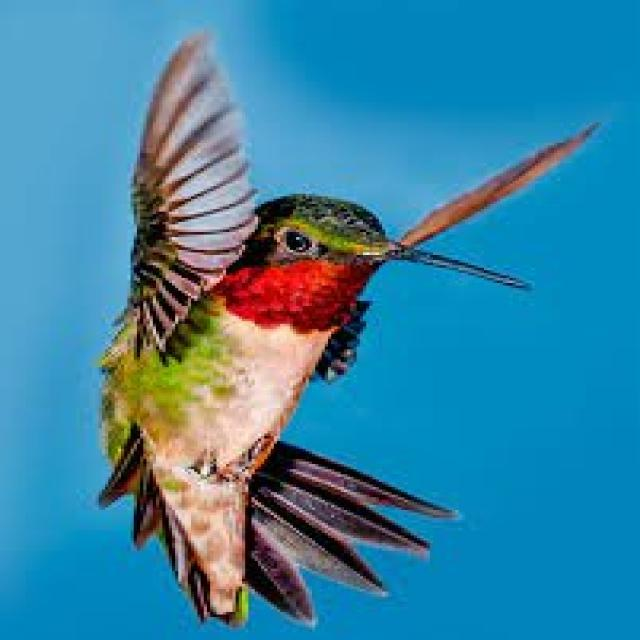Humming Bird: (95, 30, 582, 598)
